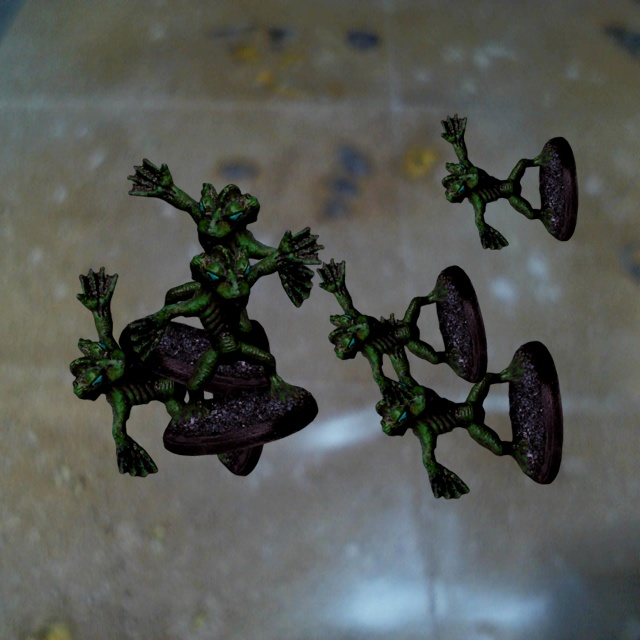pieza_juego: (118, 158, 314, 397), (130, 227, 323, 455), (69, 267, 271, 477), (372, 313, 563, 499), (316, 258, 487, 406), (441, 113, 578, 249)
